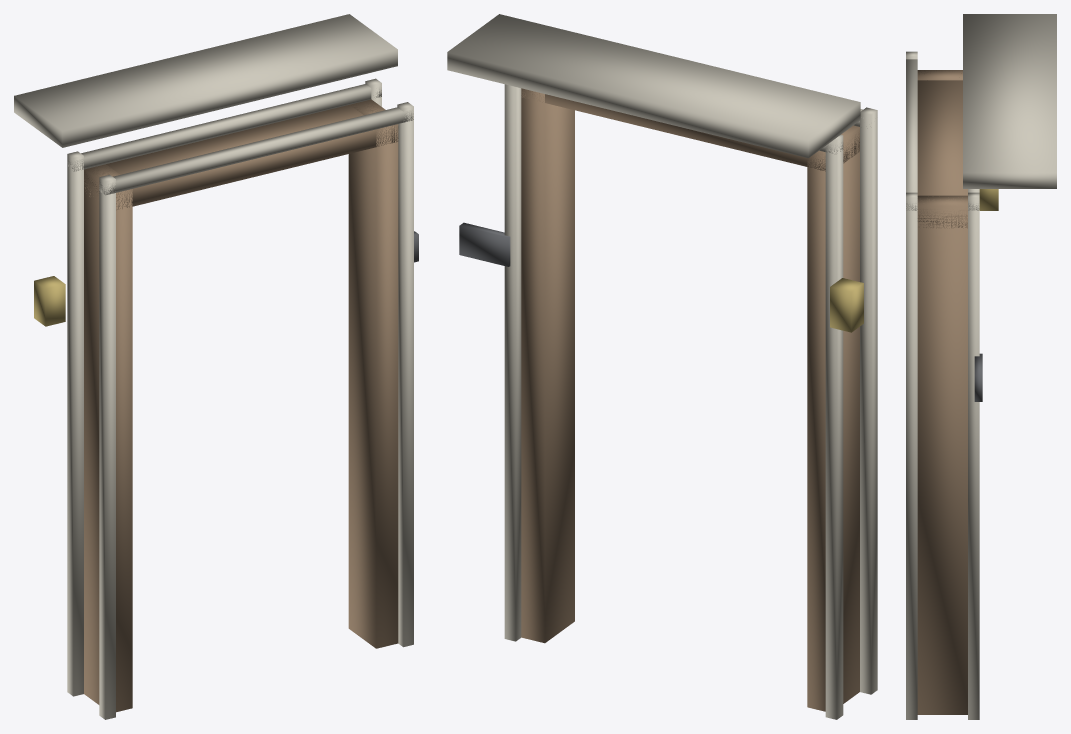
Rendered from doorway_motel_w122_h240_d24.glb.
3 renders of one model, left to right at view 1: azimuth 30°, elevation 25°; view 2: azimuth 150°, elevation 25°; view 3: azimuth 270°, elevation 25°, orthographic. The views are drawn at different scales.
Parts seen in each view (by area): view 1: world; view 2: world; view 3: world.
Part boxes in pixels (left/top/right/bottom): world: left=14, top=14, right=418, bottom=719; world: left=447, top=14, right=877, bottom=719; world: left=906, top=14, right=1056, bottom=719.
Bounding box in the file's own units: 1.86 × 2.73 × 0.6748.
